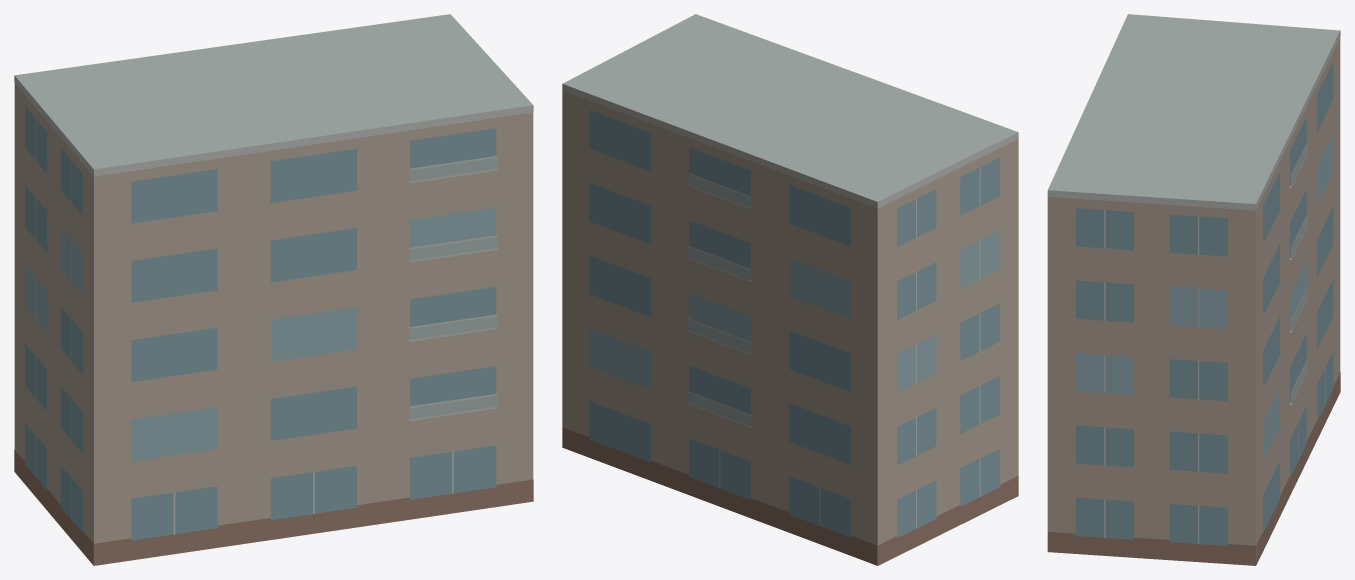
The model's file is survey-upis-32894486.glb.
The picture shows the model from 3 angles, left to right: view 1: azimuth 30°, elevation 25°; view 2: azimuth 150°, elevation 25°; view 3: azimuth 270°, elevation 25°; orthographic projection. The views are drawn at different scales.
Visible parts, largest first — view 1: survey-upis-32894486.tmp; view 2: survey-upis-32894486.tmp; view 3: survey-upis-32894486.tmp.
Boxes of the visible parts, <box> form: survey-upis-32894486.tmp: <box>14,14,533,565</box>; survey-upis-32894486.tmp: <box>562,14,1018,565</box>; survey-upis-32894486.tmp: <box>1047,14,1340,565</box>.
Bounding box in the file's own units: 15.22 × 13.5 × 9.91.
